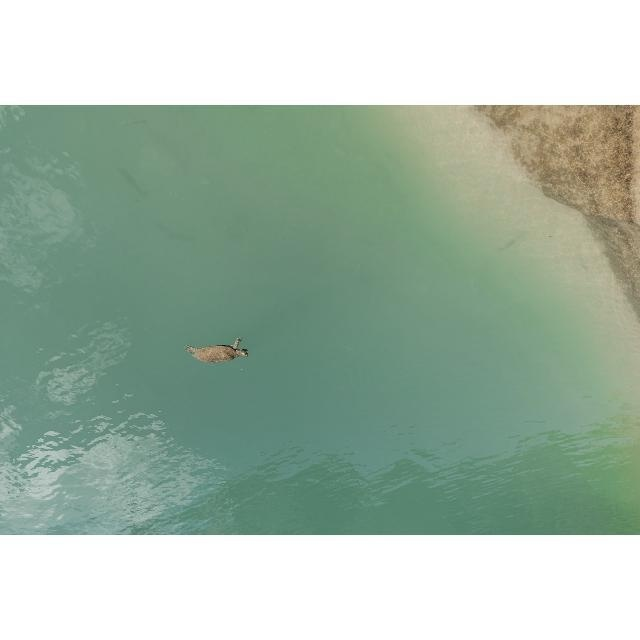turtle: (185, 336, 249, 364)
